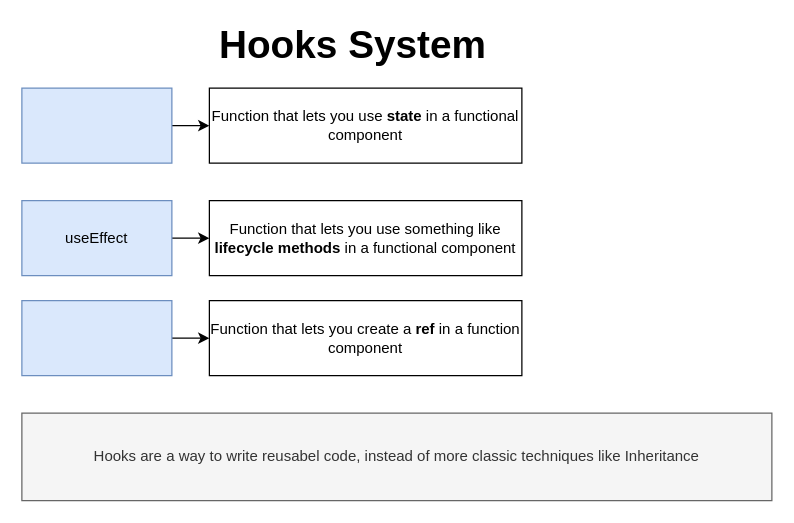
Image size: 794x523. Some labels were removed from this diagram. The centre of each missing label's shape, as x and y in pixels:
"useRef" belongs at pixel 96 337.
"useState" belongs at pixel 96 125.
